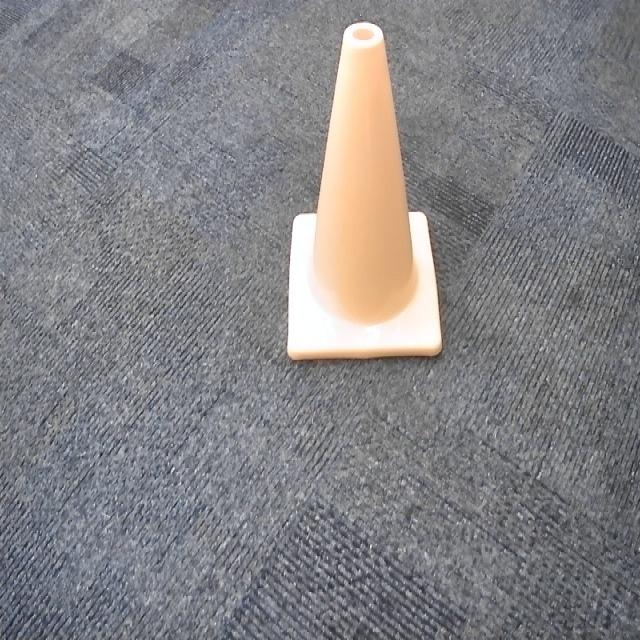cone: (285, 20, 443, 362)
